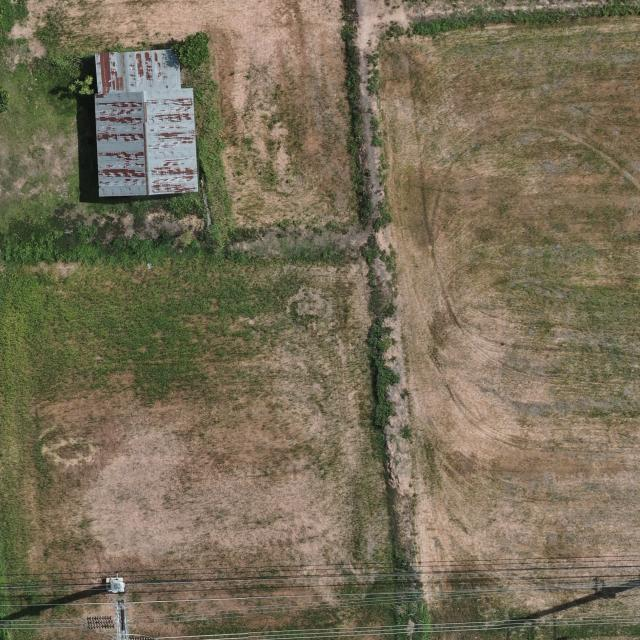Tree: (172, 29, 210, 72), (66, 74, 94, 96), (0, 81, 9, 118)
